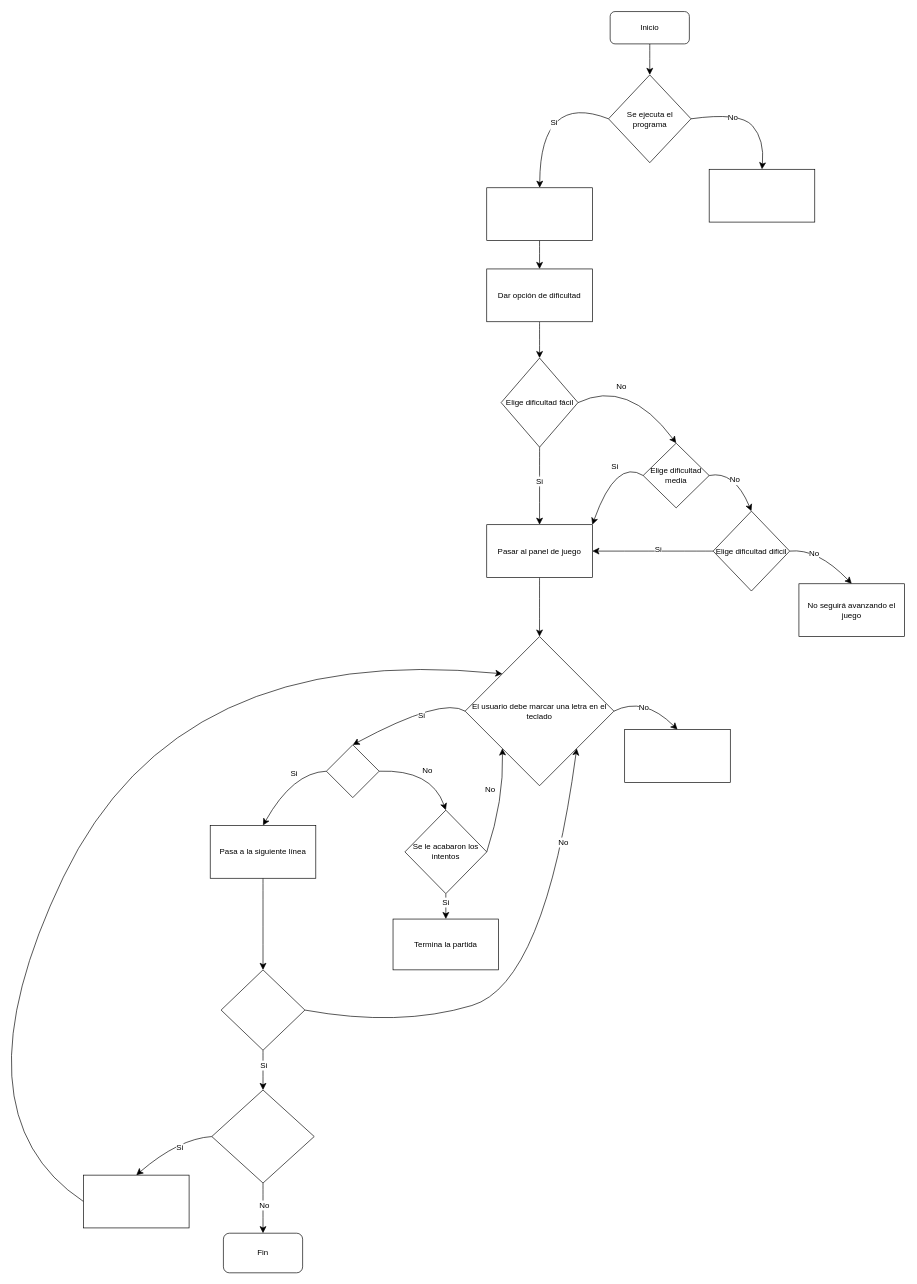
Some shapes in this 917 by 1284 pixel diagram are drawn without their labels. The box of each missing label's shape, as (x1, y1, x2, y2) in pixels:
El usuario permanecerá en el panel del juego: (624, 729, 730, 782)
El usuario quiere seguir jugando: (211, 1089, 314, 1183)
Es la letra correcta: (326, 744, 379, 798)
Ha terminado el desafio: (220, 969, 305, 1050)
Iniciar partida: (486, 187, 592, 241)
No dar comienzo al juego: (709, 169, 815, 222)
Pasa a la siguiente ronda: (83, 1174, 189, 1228)
